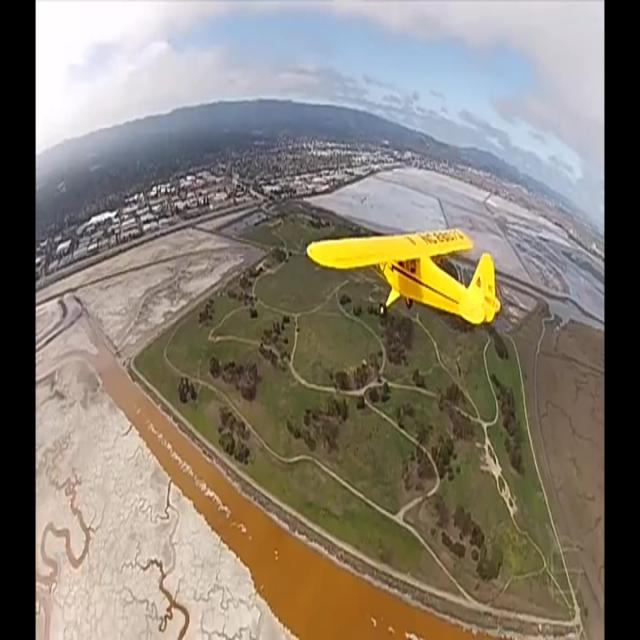iha: (305, 258, 501, 296)
